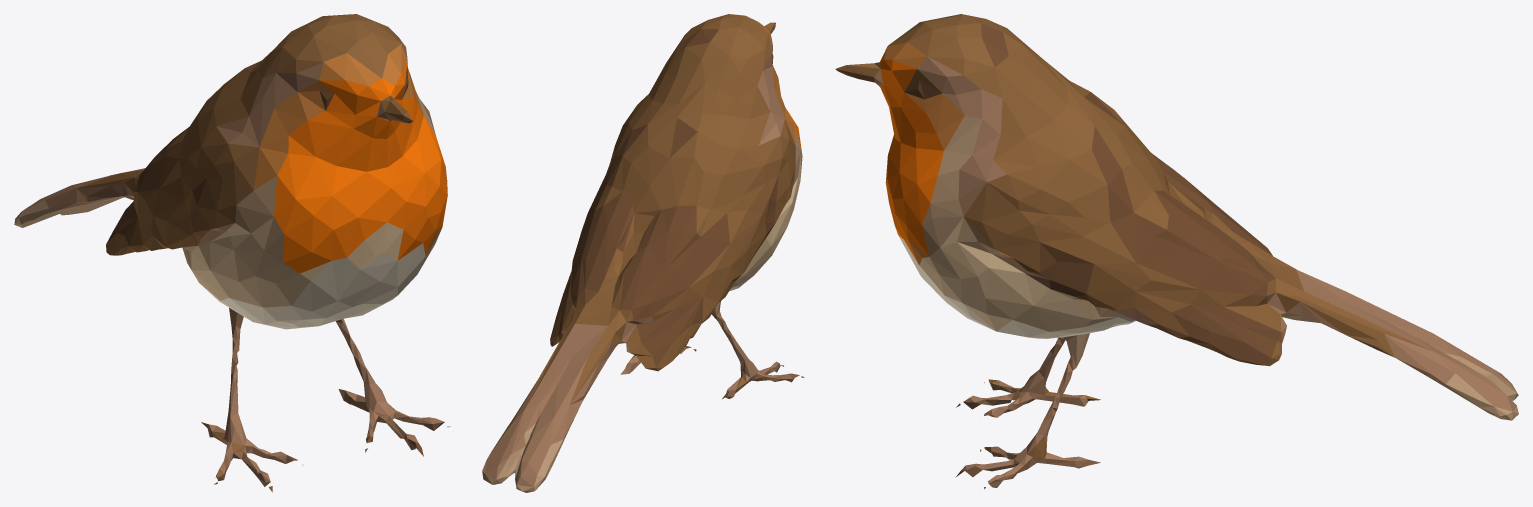
File: small_bird.glb
The picture shows the model from 3 angles, left to right: view 1: azimuth 30°, elevation 25°; view 2: azimuth 150°, elevation 25°; view 3: azimuth 270°, elevation 25°; orthographic projection. The views are drawn at different scales.
Parts seen in each view (by area): view 1: low-poly-bird; view 2: low-poly-bird; view 3: low-poly-bird.
Boxes of the visible parts, bbox=[...] form: low-poly-bird: bbox=[14, 14, 450, 492]; low-poly-bird: bbox=[482, 14, 804, 492]; low-poly-bird: bbox=[835, 14, 1518, 489].
Size of the model in its own units: 0.0521 by 0.0947 by 0.139.
1 material, 1 textured.
